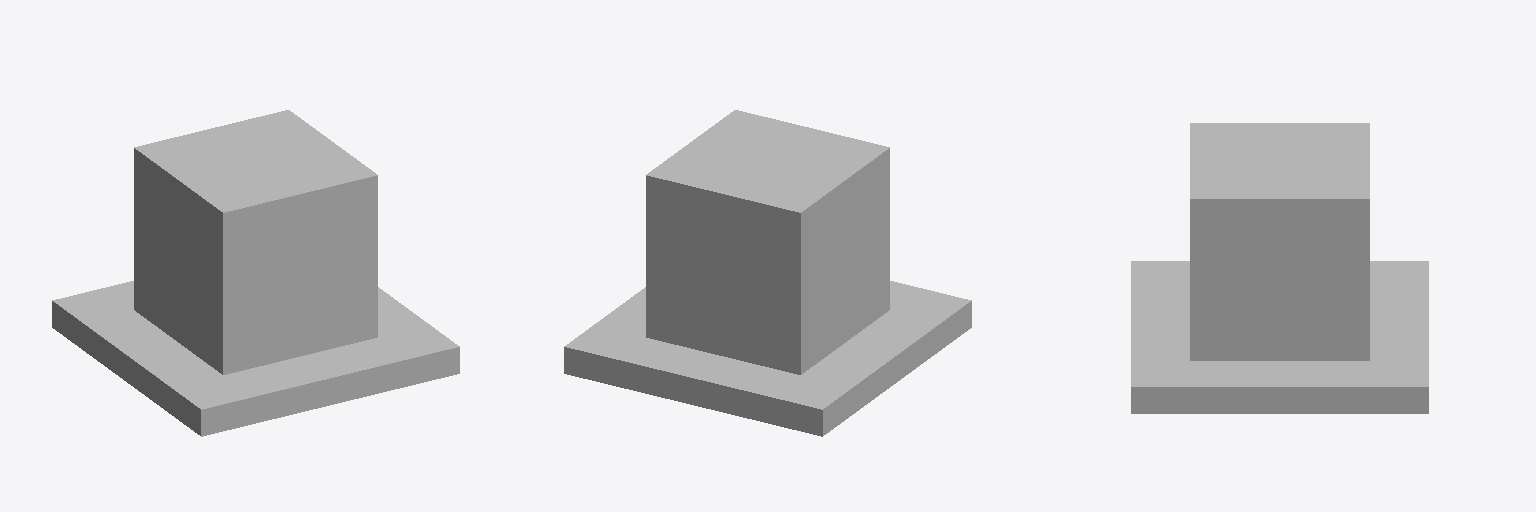
File: Snowman_Hat_3.obj
The picture shows the model from 3 angles: view 1: azimuth 30°, elevation 25°; view 2: azimuth 150°, elevation 25°; view 3: azimuth 270°, elevation 25°; orthographic projection.
Parts seen in each view (by area): view 1: object 1; view 2: object 1; view 3: object 1.
Part boxes in pixels (left/top/right/bottom): object 1: left=52, top=110, right=459, bottom=436; object 1: left=564, top=110, right=971, bottom=436; object 1: left=1131, top=123, right=1428, bottom=413.
Size of the model in its own units: 1 by 0.7 by 1.